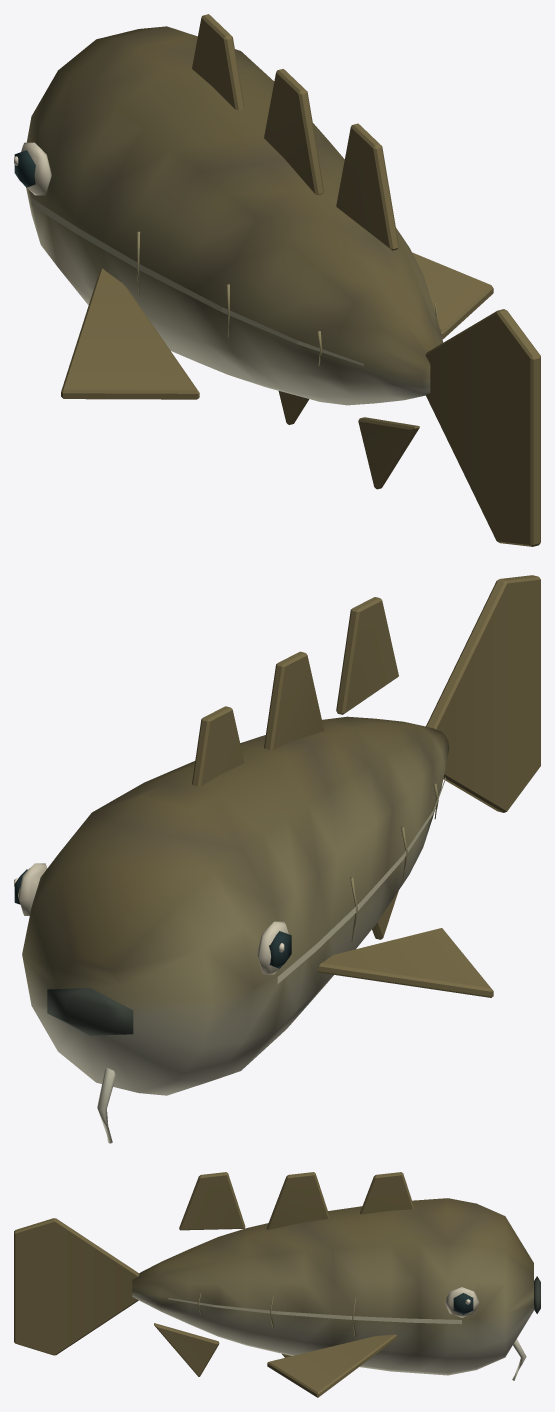
Rendered from fish_cod.glb.
The picture shows the model from 3 angles, top to bottom: view 1: azimuth 30°, elevation 25°; view 2: azimuth 150°, elevation 25°; view 3: azimuth 270°, elevation 25°; orthographic projection. The views are drawn at different scales.
Bounding box in the file's own units: 0.2766 × 0.2176 × 0.5.
